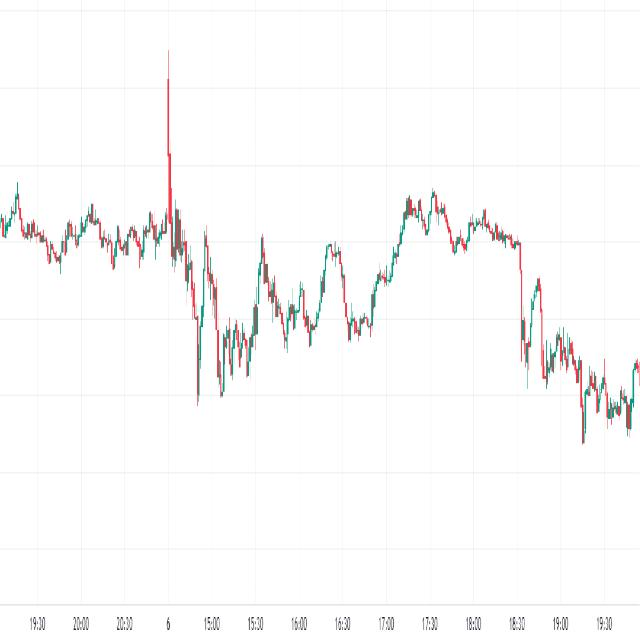Ascending-Triangle: (147, 178, 528, 451)
Falling-Wedge: (515, 237, 639, 445)
